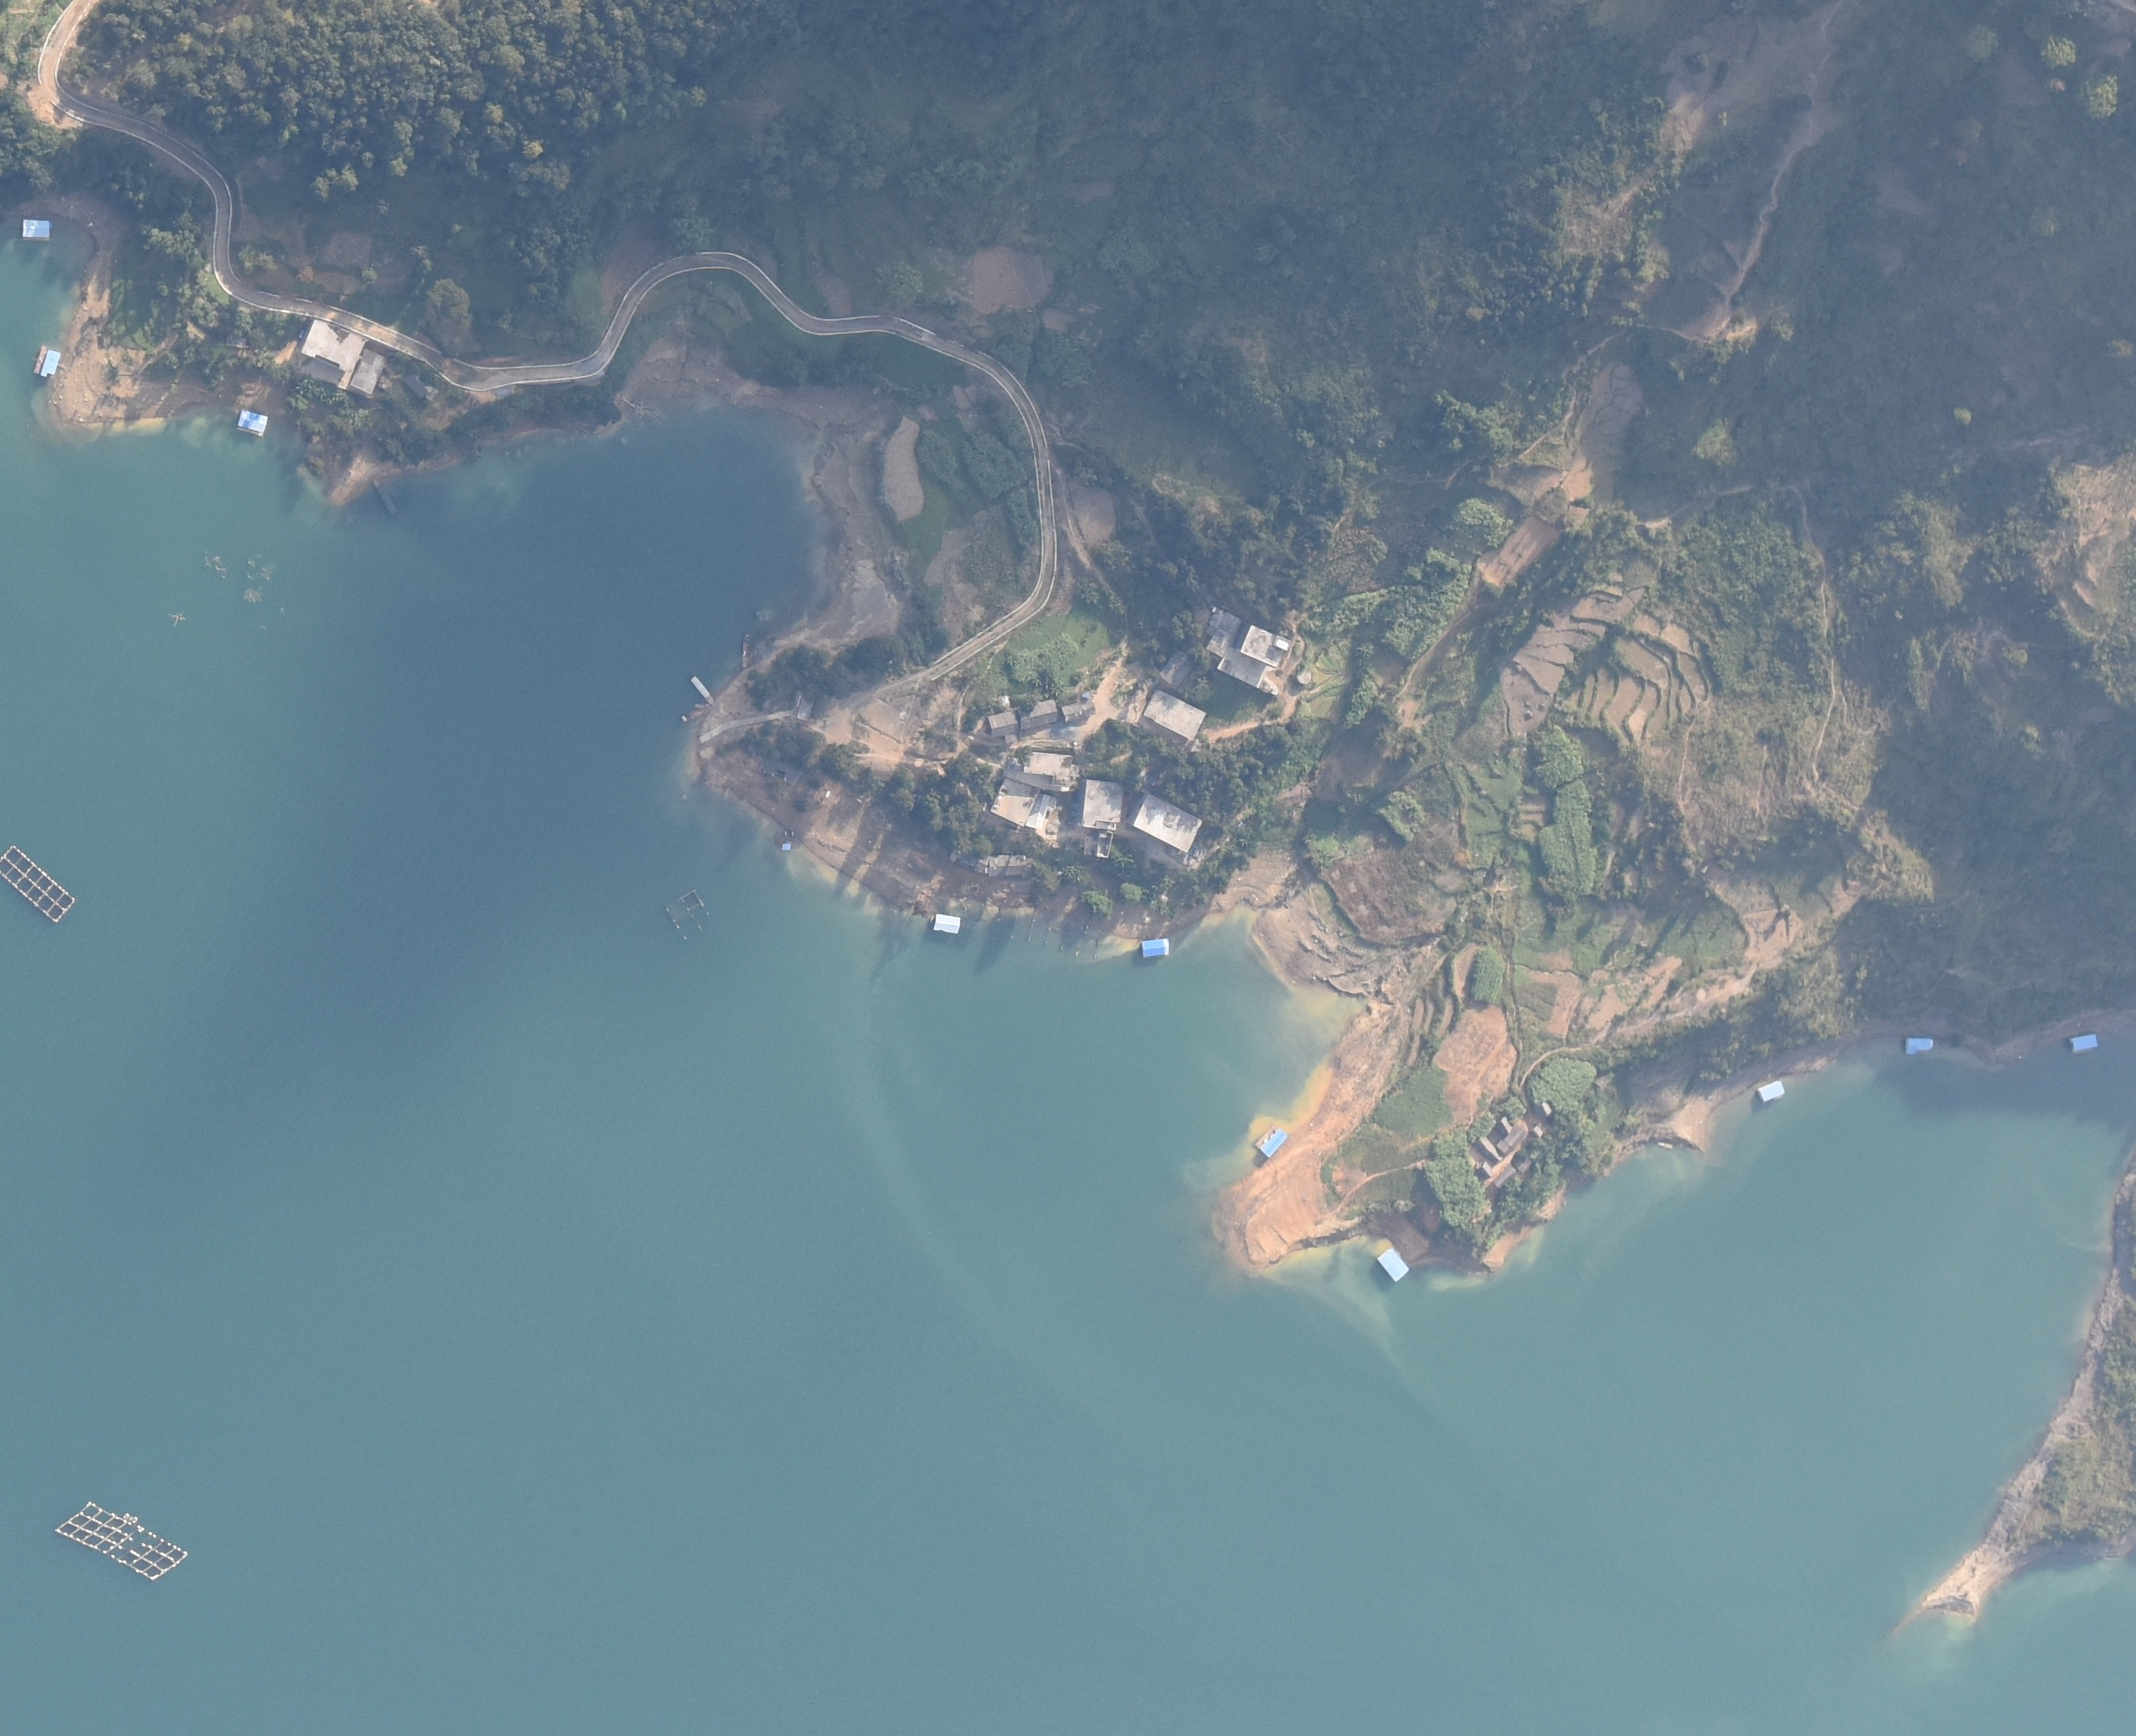building: (299, 317, 384, 397), (1222, 627, 1291, 694), (1130, 792, 1203, 852), (992, 779, 1056, 833), (1144, 689, 1208, 742), (1079, 779, 1123, 829), (1022, 751, 1077, 790), (1203, 606, 1242, 659), (1162, 650, 1190, 693), (402, 372, 443, 400), (1491, 1116, 1523, 1151), (1059, 694, 1098, 723), (1017, 700, 1057, 726), (987, 710, 1018, 737), (1475, 1135, 1502, 1164), (797, 687, 815, 726), (1495, 1166, 1516, 1189), (1513, 1155, 1532, 1173), (1536, 1100, 1552, 1118), (1477, 1160, 1491, 1180), (1530, 1125, 1544, 1139)
cultivation-mesh-cage: (51, 1497, 190, 1584), (0, 845, 78, 926), (664, 891, 714, 941)
prefabricated-house: (1254, 1125, 1288, 1160), (1374, 1249, 1410, 1279), (34, 345, 60, 379), (237, 411, 271, 434), (19, 216, 51, 239), (932, 912, 962, 935), (1755, 1077, 1785, 1100), (1141, 937, 1171, 957), (1906, 1036, 1936, 1056), (2070, 1033, 2099, 1052), (779, 840, 793, 852)
ship: (372, 478, 399, 517), (691, 673, 717, 707), (740, 636, 753, 670), (680, 712, 703, 721)
well: (1296, 668, 1312, 684)
